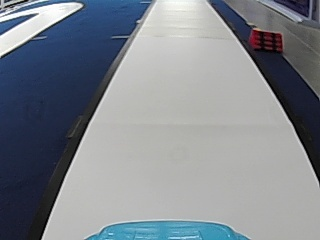bomb: (247, 27, 283, 51)
